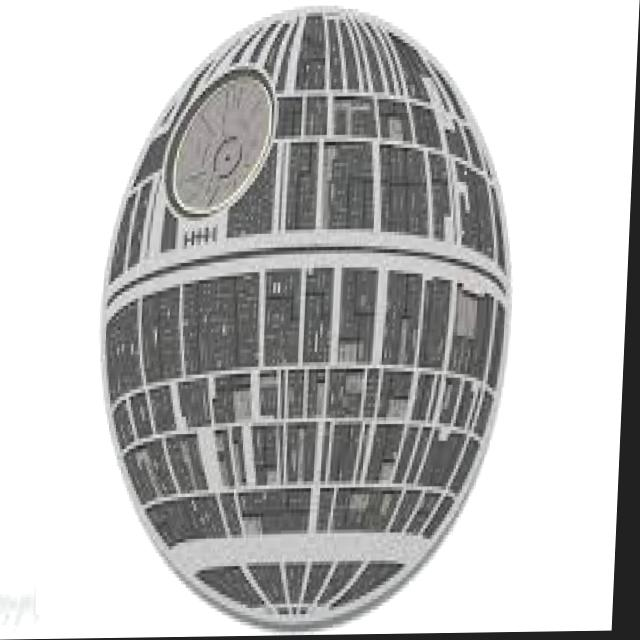deathStar: (90, 2, 520, 635)
